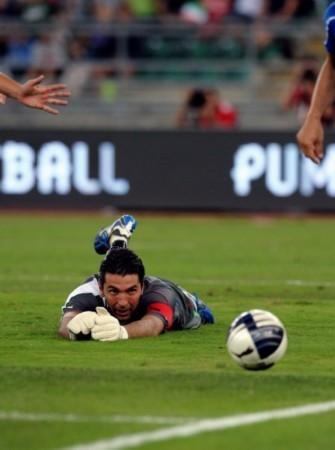falling: (49, 201, 217, 353)
